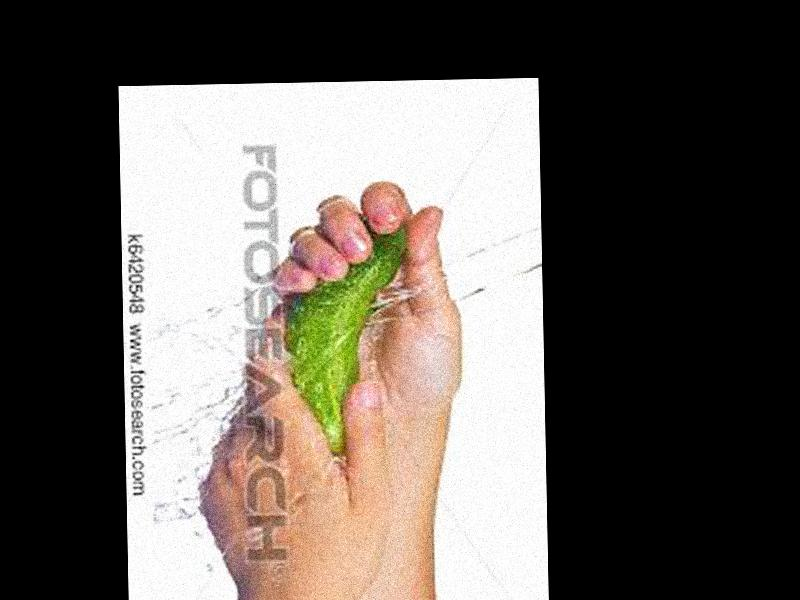Cucumber: (278, 223, 412, 463)
